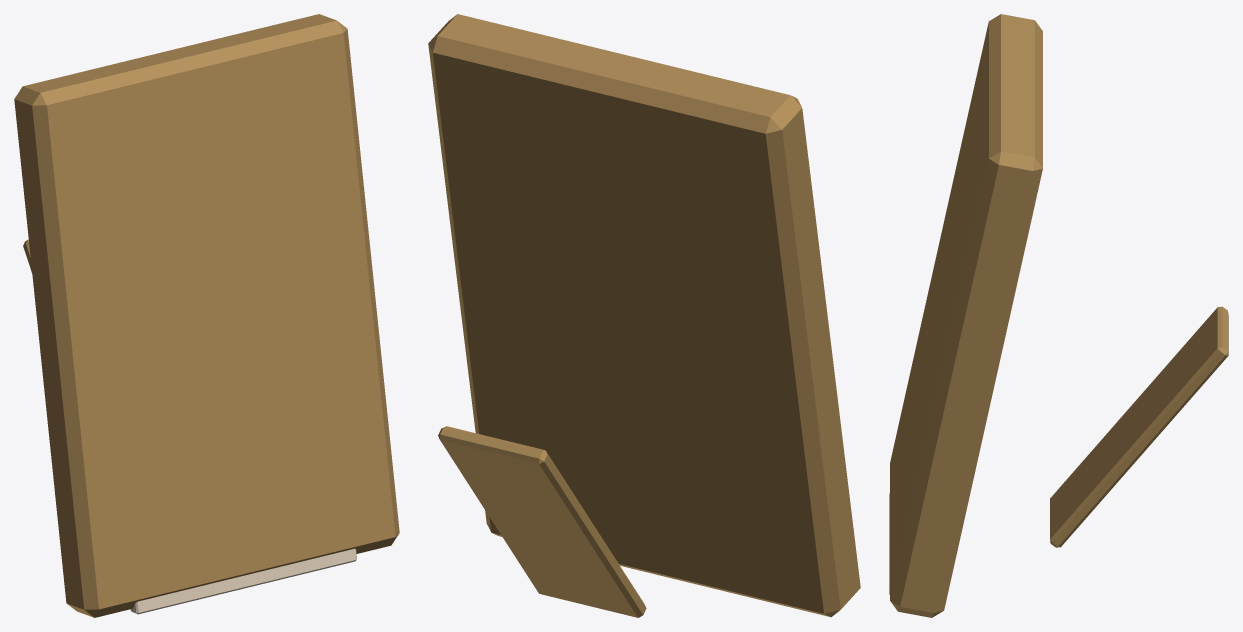
The model's file is i_tframe_2.glb.
3 renders of one model, left to right at view 1: azimuth 30°, elevation 25°; view 2: azimuth 150°, elevation 25°; view 3: azimuth 270°, elevation 25°, orthographic. The views are drawn at different scales.
Parts seen in each view (by area): view 1: o, o.001; view 2: o, o.002; view 3: o, o.002.
Boxes of the visible parts, box(x1,y1,x2,y2) form: o: box(14, 14, 399, 617); o.001: box(130, 548, 356, 614); o: box(428, 14, 860, 617); o.002: box(438, 426, 646, 617); o: box(890, 14, 1042, 617); o.002: box(1050, 306, 1228, 547).
Bounding box in the file's own units: 0.1 × 0.149 × 0.0981.
